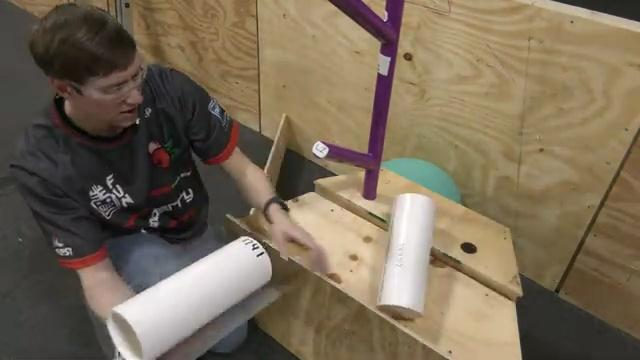CORAL: (104, 234, 273, 358), (375, 191, 436, 319)
